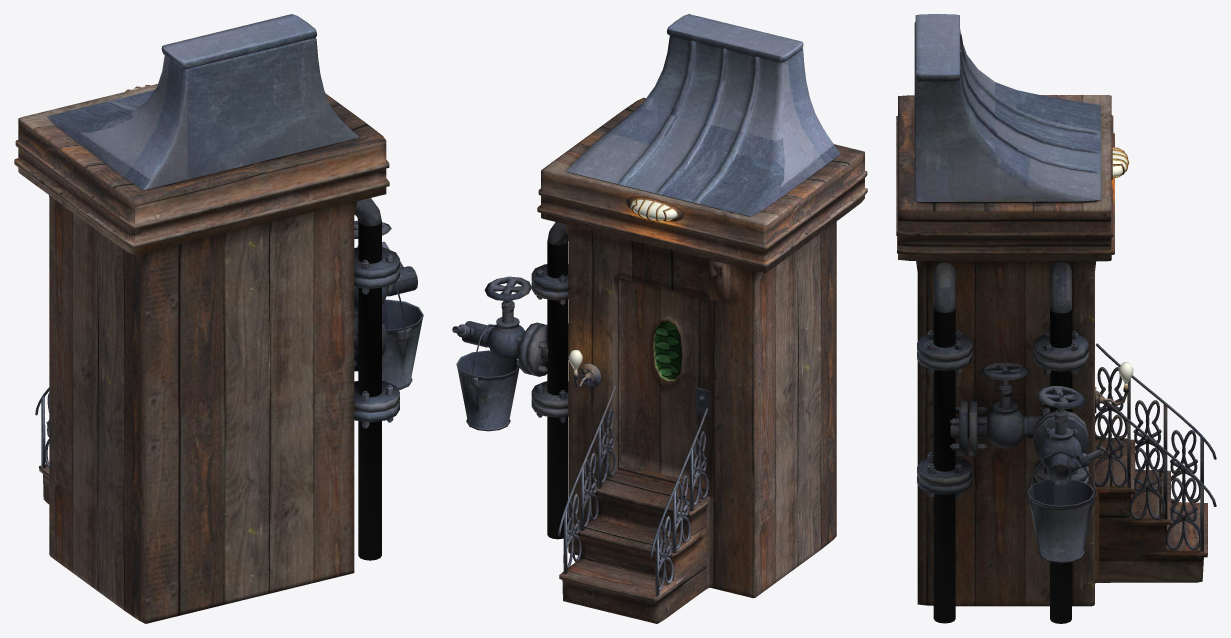
The picture shows the model from 3 angles, left to right: view 1: azimuth 30°, elevation 25°; view 2: azimuth 150°, elevation 25°; view 3: azimuth 270°, elevation 25°; orthographic projection. The views are drawn at different scales.
Parts seen in each view (by area): view 1: Cylinder.002_Mesh.001; view 2: Cylinder.002_Mesh.001; view 3: Cylinder.002_Mesh.001.
Boxes of the visible parts, x1,y1,x2,y2 form: Cylinder.002_Mesh.001: (14,14,423,623); Cylinder.002_Mesh.001: (452,14,867,623); Cylinder.002_Mesh.001: (896,14,1216,623).
Size of the model in its own units: 2.46 by 3.45 by 1.95.
Materials: 1 (1 with a texture image).
